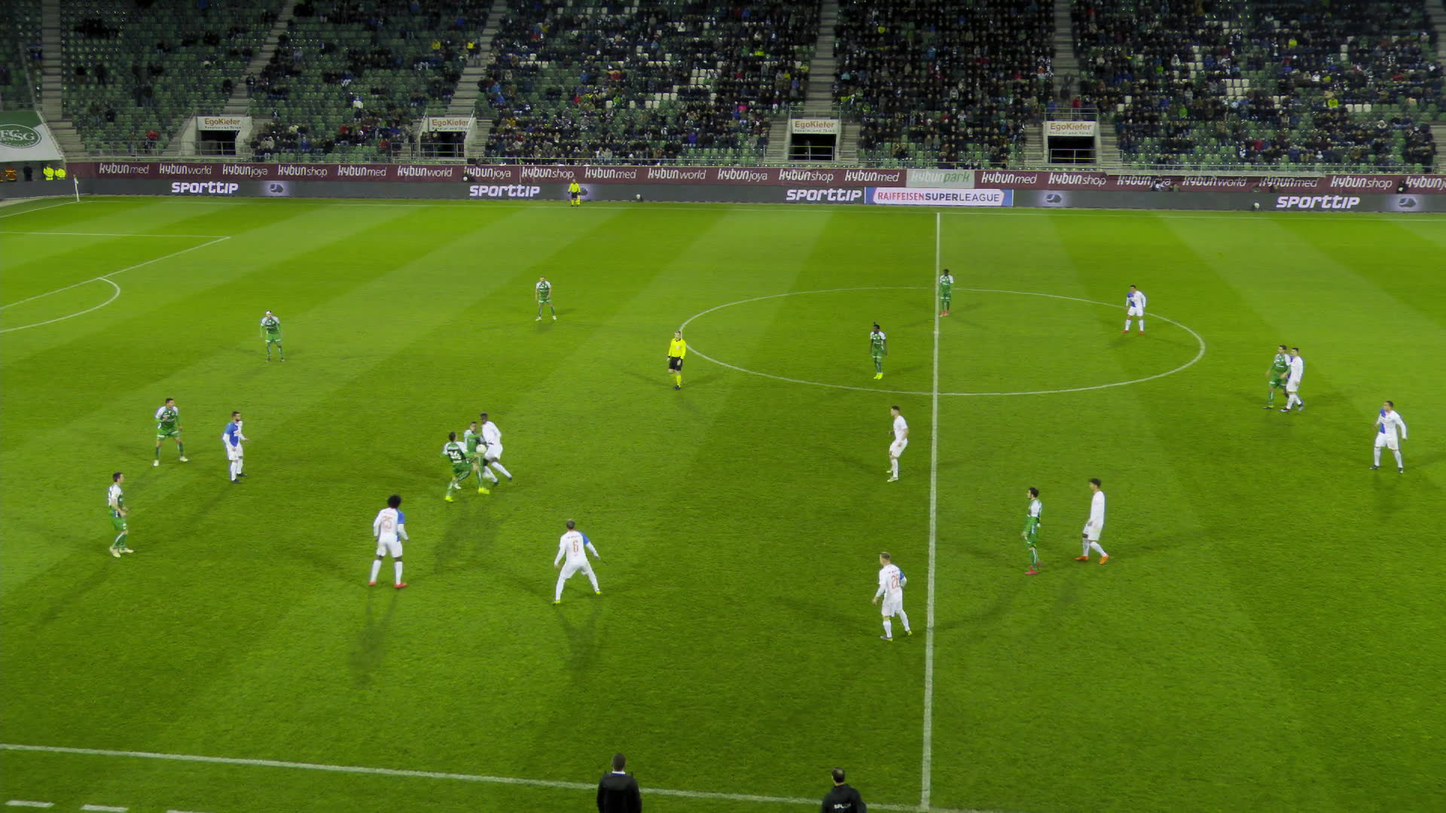ball: (476, 443, 484, 452)
player: (547, 520, 609, 610), (368, 495, 412, 587), (875, 550, 919, 640), (1071, 476, 1115, 565), (437, 434, 490, 505), (1365, 396, 1409, 477), (471, 414, 514, 485), (1012, 484, 1044, 575), (452, 420, 489, 491), (104, 472, 133, 557), (152, 397, 187, 465), (1261, 344, 1293, 409), (886, 402, 912, 481), (221, 411, 248, 483), (1279, 347, 1303, 413), (259, 311, 284, 361), (1119, 285, 1144, 335), (867, 323, 889, 379), (532, 276, 555, 321), (938, 268, 954, 316)
referee: (658, 330, 688, 388), (569, 178, 581, 207)
